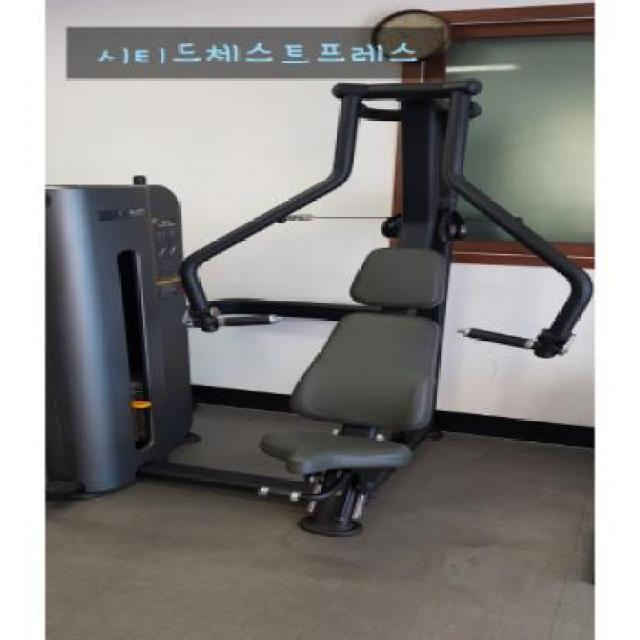Chest Press machine: (54, 78, 600, 536)
